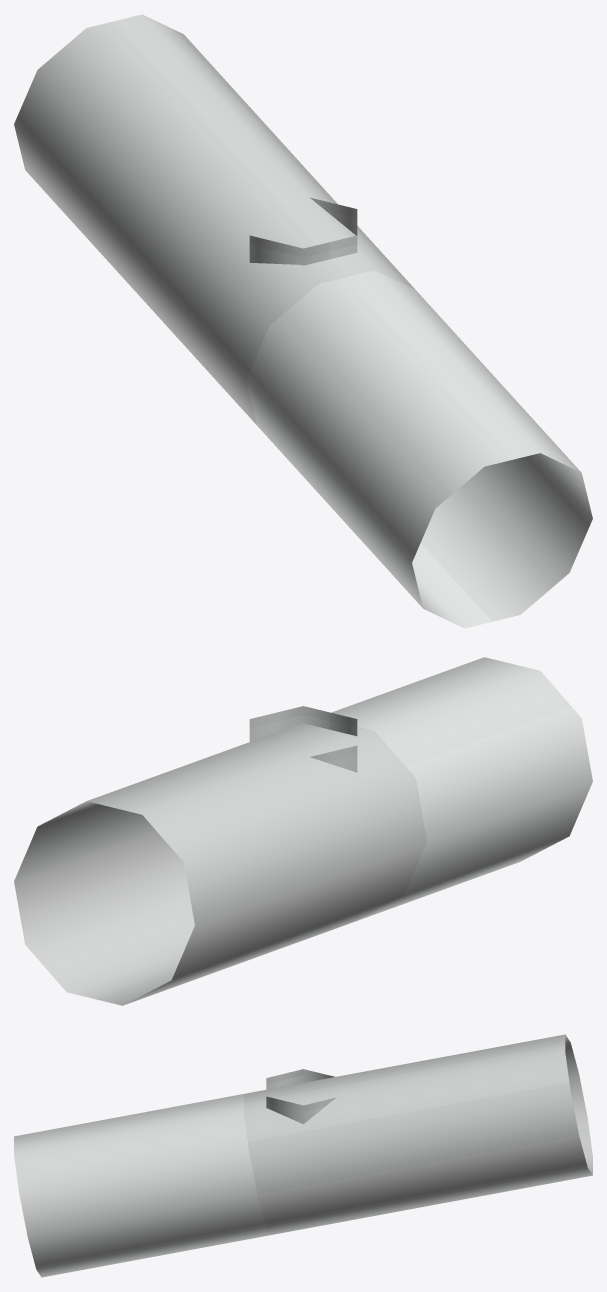
The model's file is trusssignalarm_level6_c4.obj.
3 renders of one model, top to bottom at view 1: azimuth 30°, elevation 25°; view 2: azimuth 150°, elevation 25°; view 3: azimuth 270°, elevation 25°, orthographic. The views are drawn at different scales.
Parts seen in each view (by area): view 1: trusssignalarm_level6_c4; view 2: trusssignalarm_level6_c4; view 3: trusssignalarm_level6_c4.
Part boxes in pixels (x1=…): trusssignalarm_level6_c4: x1=14, y1=14, x2=592, y2=628; trusssignalarm_level6_c4: x1=14, y1=657, x2=592, y2=1005; trusssignalarm_level6_c4: x1=14, y1=1034, x2=592, y2=1277.
Size of the model in its own units: 0.2625 by 0.4488 by 1.05.
